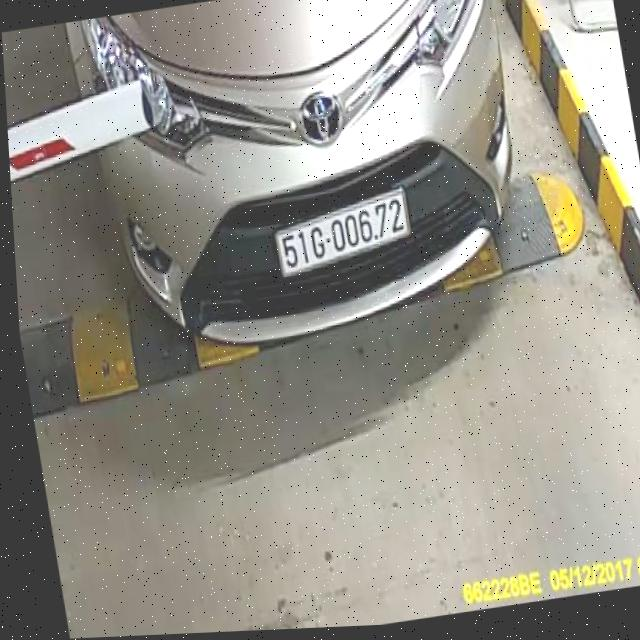car: (53, 0, 553, 366)
plate: (267, 189, 420, 276)
